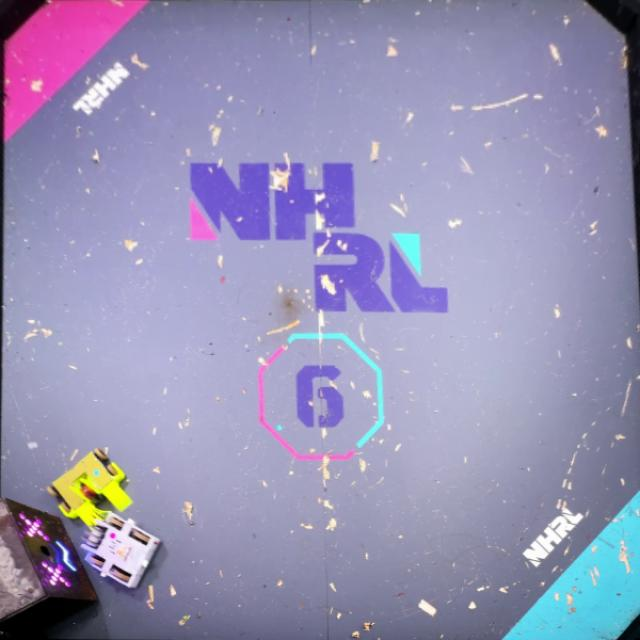housebot: (0, 498, 93, 640)
robot: (54, 452, 130, 530), (87, 519, 163, 587)
